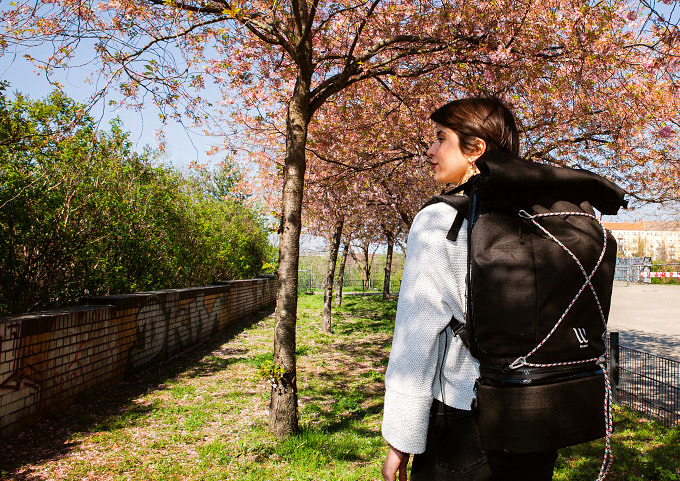backpack: (462, 152, 627, 452)
